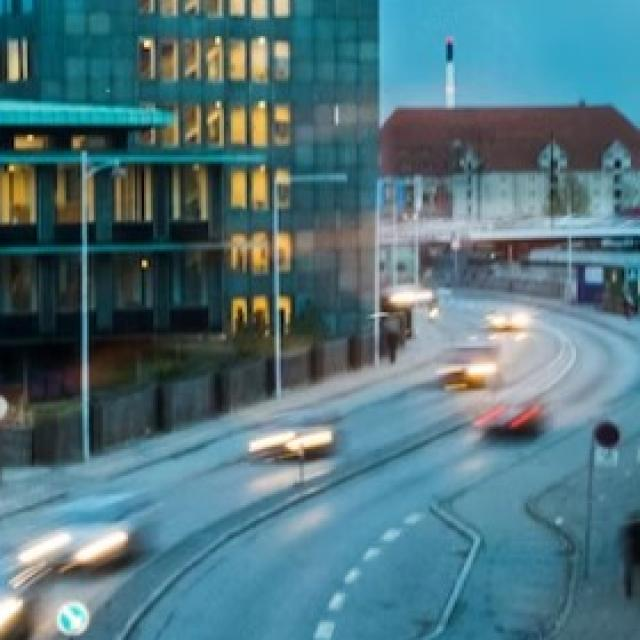car: (31, 492, 152, 571), (248, 408, 339, 464), (428, 337, 506, 393), (0, 563, 34, 640)
